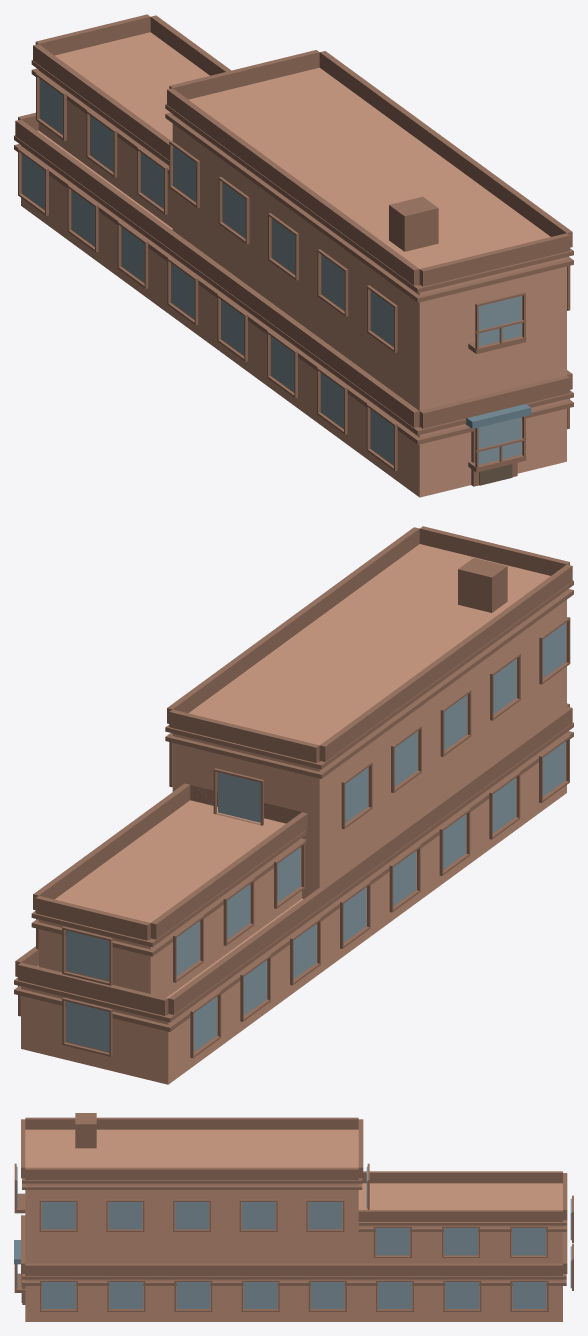
File: residential_1x4_court.glb
3 renders of one model, top to bottom at view 1: azimuth 30°, elevation 25°; view 2: azimuth 150°, elevation 25°; view 3: azimuth 270°, elevation 25°, orthographic. The views are drawn at different scales.
Visible parts, largest first — view 1: residential_1x4_court_0; view 2: residential_1x4_court_0; view 3: residential_1x4_court_0.
Boxes of the visible parts, x1,y1,x2,y2 form: residential_1x4_court_0: (14,14,573,497); residential_1x4_court_0: (14,526,573,1084); residential_1x4_court_0: (14,1113,573,1321).
Bounding box in the file's own units: 7.74 × 10.5 × 31.77.
